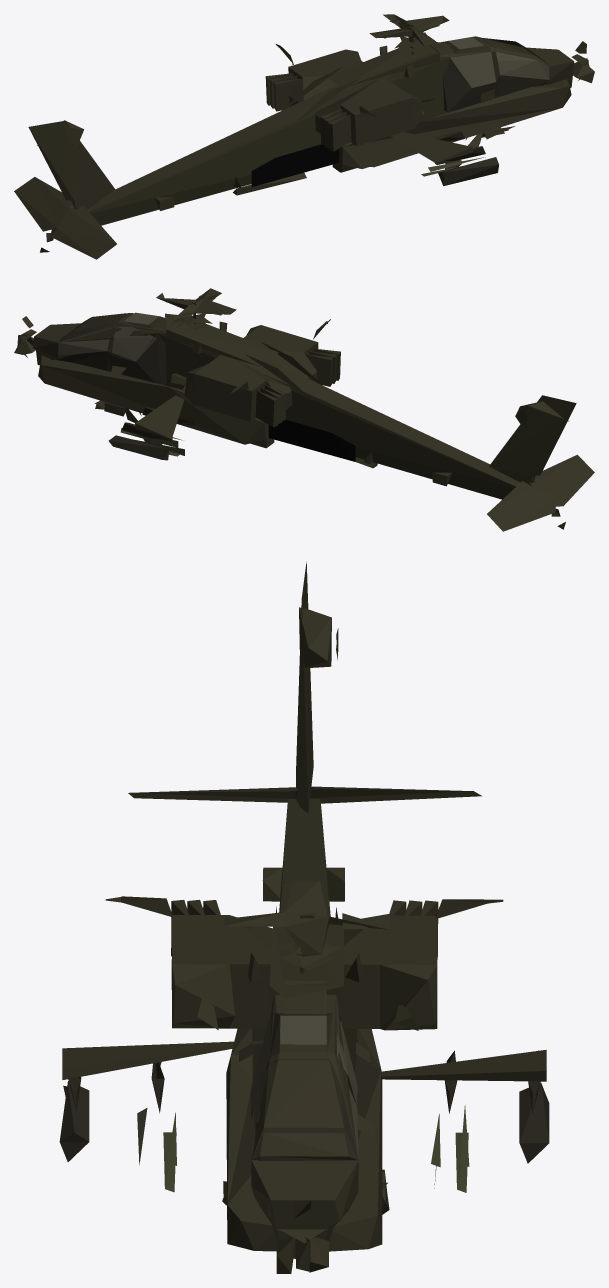
File: apache.lod2.glb
3 renders of one model, top to bottom at view 1: azimuth 30°, elevation 25°; view 2: azimuth 150°, elevation 25°; view 3: azimuth 270°, elevation 25°, orthographic. The views are drawn at different scales.
Visible parts, largest first — view 1: Object_2; view 2: Object_2; view 3: Object_2.
Part boxes in pixels (<box>): Object_2: <box>14,14,594,259</box>; Object_2: <box>14,288,594,531</box>; Object_2: <box>59,562,549,1273</box>.
Size of the model in its own units: 15.44 by 3.73 by 5.86.
